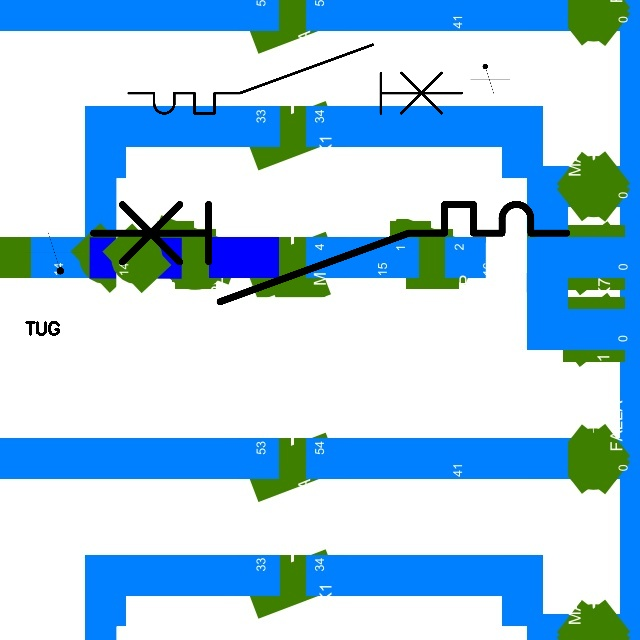interruptor_termomagnetico: (81, 192, 579, 314), (120, 36, 470, 122)
